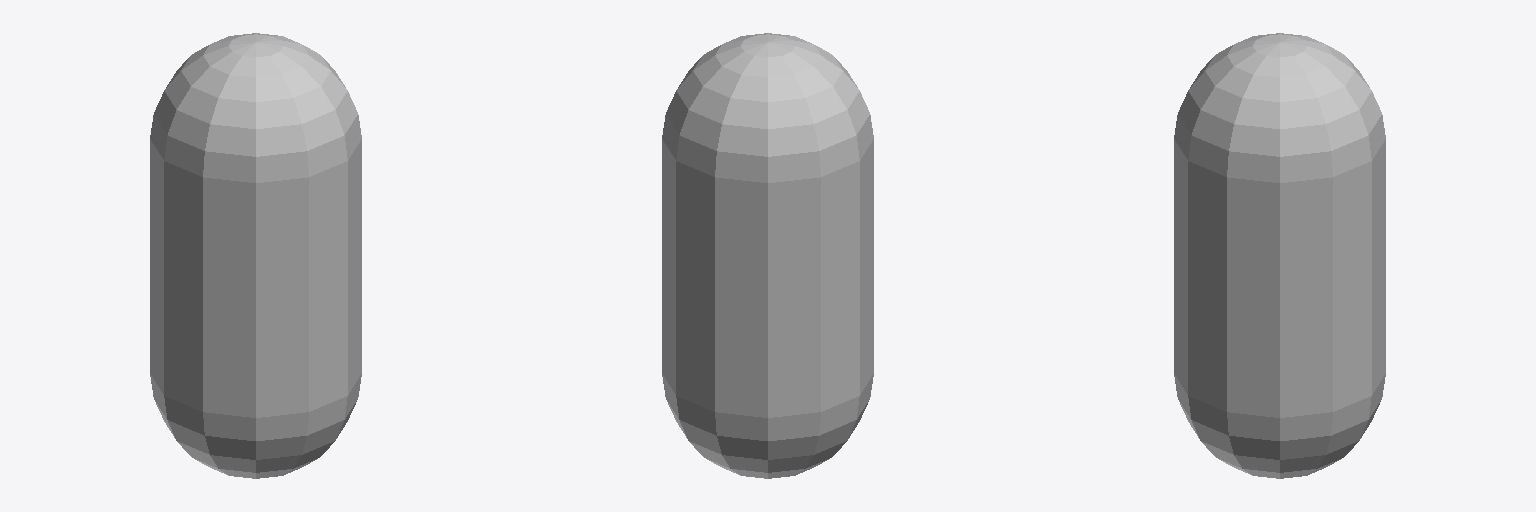
File: Rebondissante.obj
3 views of the same model, side by side, from view 1: azimuth 30°, elevation 25°; view 2: azimuth 150°, elevation 25°; view 3: azimuth 270°, elevation 25° (orthographic).
Parts seen in each view (by area): view 1: Capsule001; view 2: Capsule001; view 3: Capsule001.
Part boxes in pixels (x1,y1,x2,y2): Capsule001: (150,33,361,478); Capsule001: (662,33,873,478); Capsule001: (1174,33,1385,478).
Bounding box in the file's own units: 9 × 20 × 9.